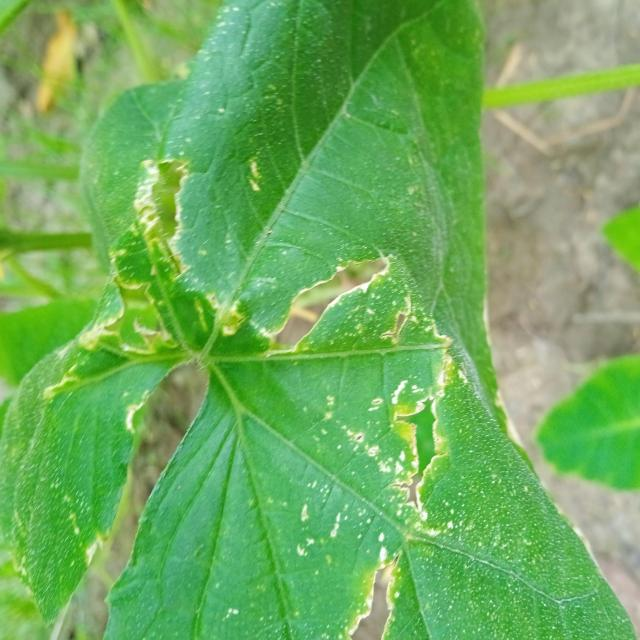cucumber_anthracnose: (31, 158, 470, 636)
